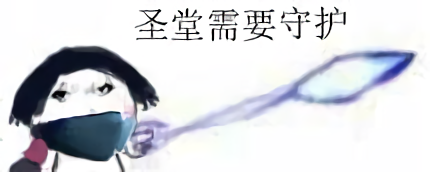dragon: (52, 77, 119, 115)
